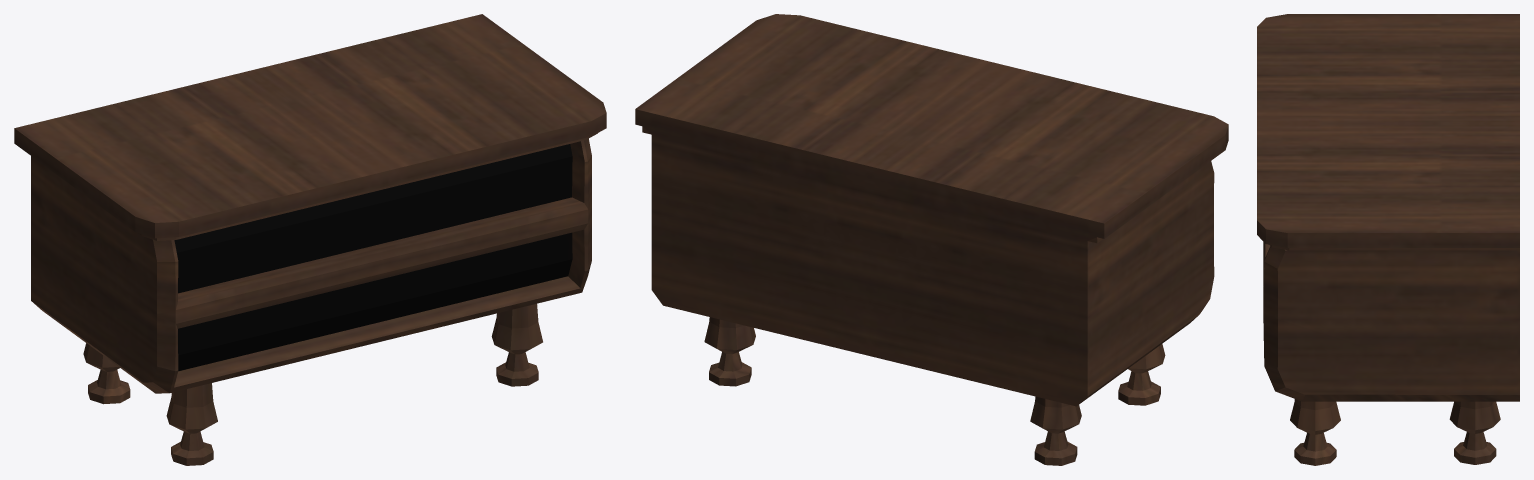
The model's file is CabinetLow1.fbx.
The picture shows the model from 3 angles, left to right: view 1: azimuth 30°, elevation 25°; view 2: azimuth 150°, elevation 25°; view 3: azimuth 270°, elevation 25°; orthographic projection. The views are drawn at different scales.
Parts seen in each view (by area): view 1: Cube.034; view 2: Cube.034; view 3: Cube.034.
Boxes of the visible parts, left/top/right/bottom form: Cube.034: left=14, top=14, right=606, bottom=465; Cube.034: left=635, top=14, right=1228, bottom=465; Cube.034: left=1257, top=14, right=1519, bottom=465.
Bounding box in the file's own units: 184 × 101 × 93.38.
1 material, 1 textured.
